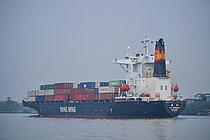Ship: (20, 36, 189, 122)
